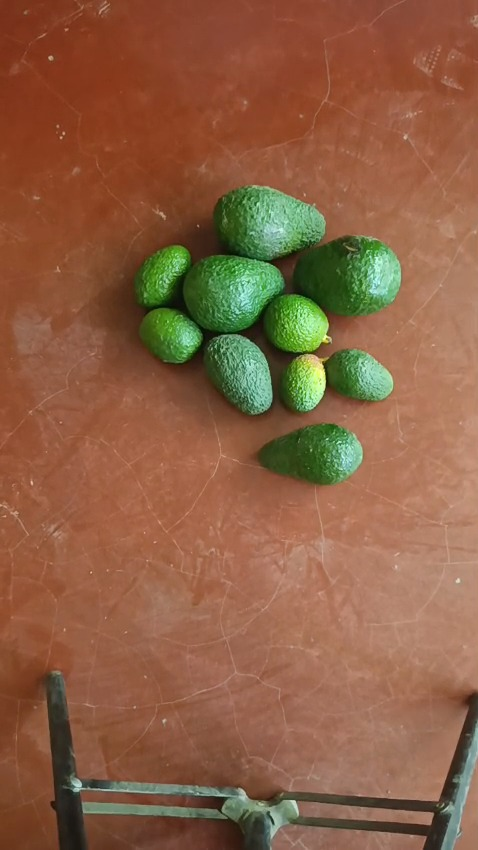Primera: (292, 236, 401, 318), (213, 185, 327, 261), (182, 255, 283, 334)
Segunda: (259, 422, 363, 484), (202, 334, 273, 414)
Tercera: (263, 293, 330, 353), (322, 348, 393, 402), (133, 245, 192, 309), (137, 308, 202, 364), (280, 353, 328, 412)
